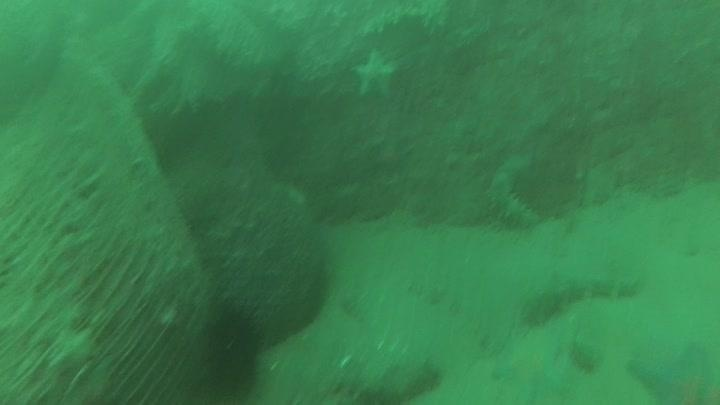echinus: (190, 299, 269, 402)
holothurian: (518, 268, 642, 328), (484, 158, 541, 232), (362, 4, 446, 39)
starfish: (626, 337, 720, 405), (490, 328, 573, 405), (348, 46, 403, 102)
